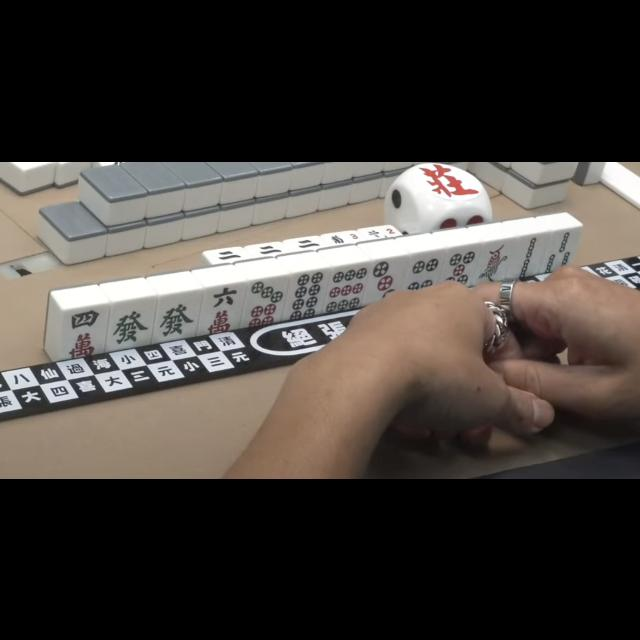b1: (476, 239, 512, 283)
b2: (510, 234, 544, 278)
b3: (544, 227, 578, 273)
c4: (59, 306, 108, 358)
c6: (202, 286, 244, 332)
d3: (366, 258, 404, 302)
d4: (406, 250, 444, 292)
d5: (442, 243, 480, 291)
d7: (243, 278, 287, 328)
d8: (287, 270, 327, 316)
d9: (327, 264, 368, 314)
dg: (107, 300, 153, 348), (156, 293, 198, 339)
f2: (364, 225, 398, 238)
f3: (328, 231, 362, 245)
